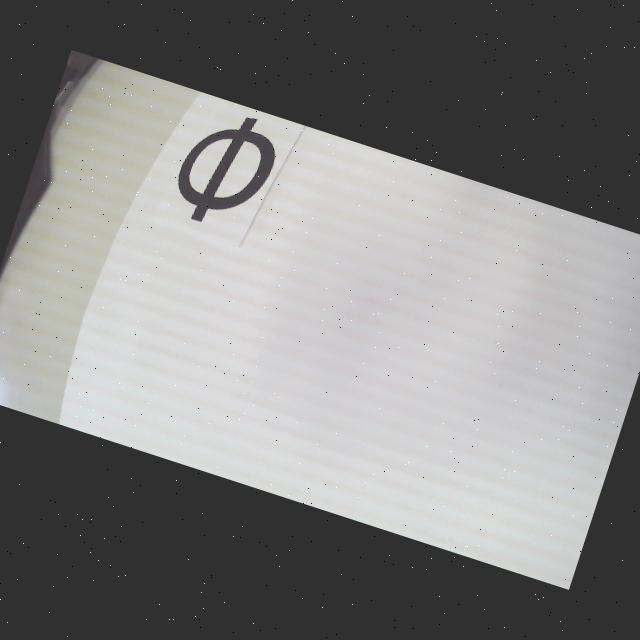PHI: (166, 100, 286, 238)
